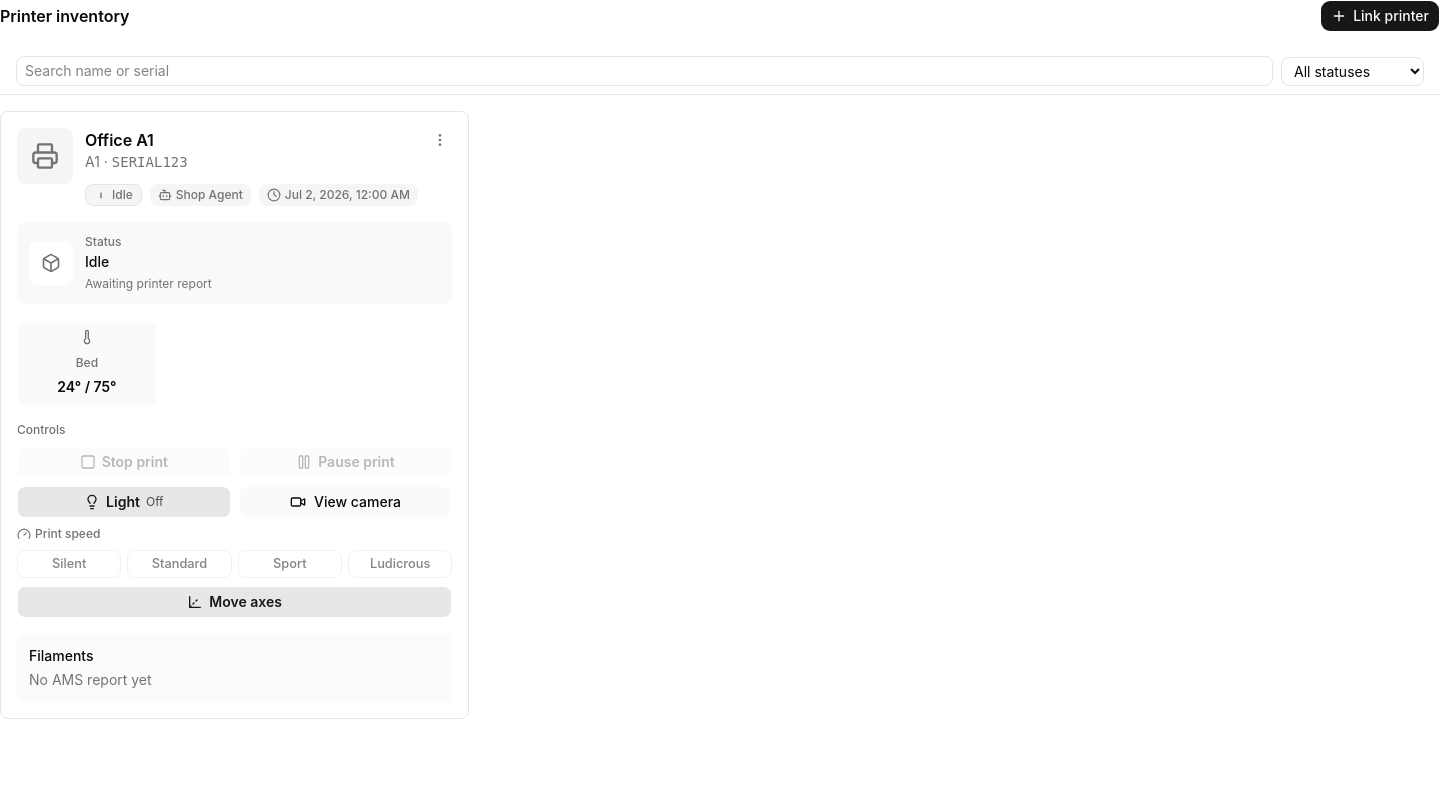
Test: PrinterInventory › opens bed temperature controls with bed presets
Click the button with aria-label "Set bed temperature" at (87, 363), box [17, 320, 157, 406]
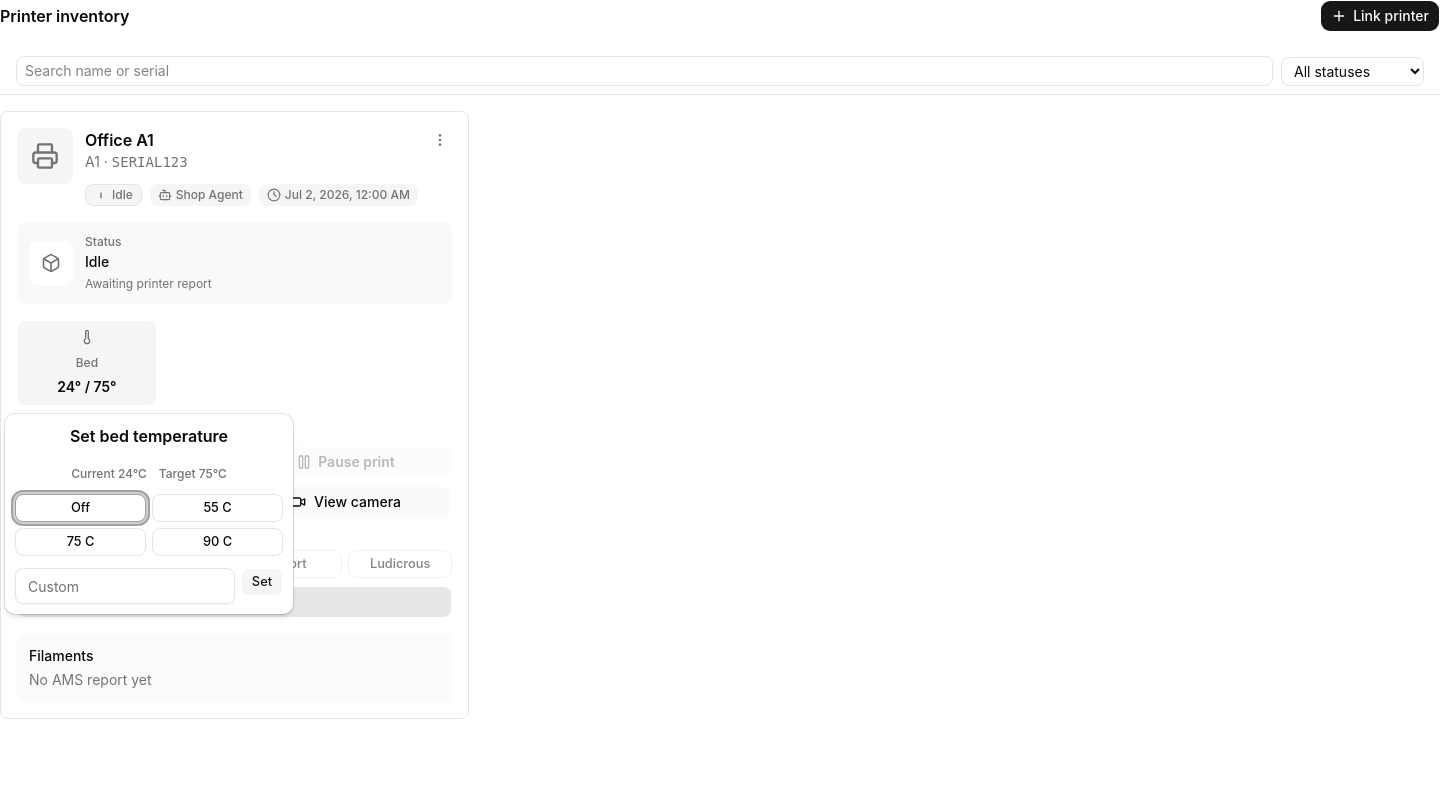
Expected: the heading "Set bed temperature" is shown, [70, 426, 228, 446]
Expected: the text "Current 24°C" is shown, [71, 466, 147, 482]
Expected: the text "Target 75°C" is shown, [159, 466, 227, 482]
